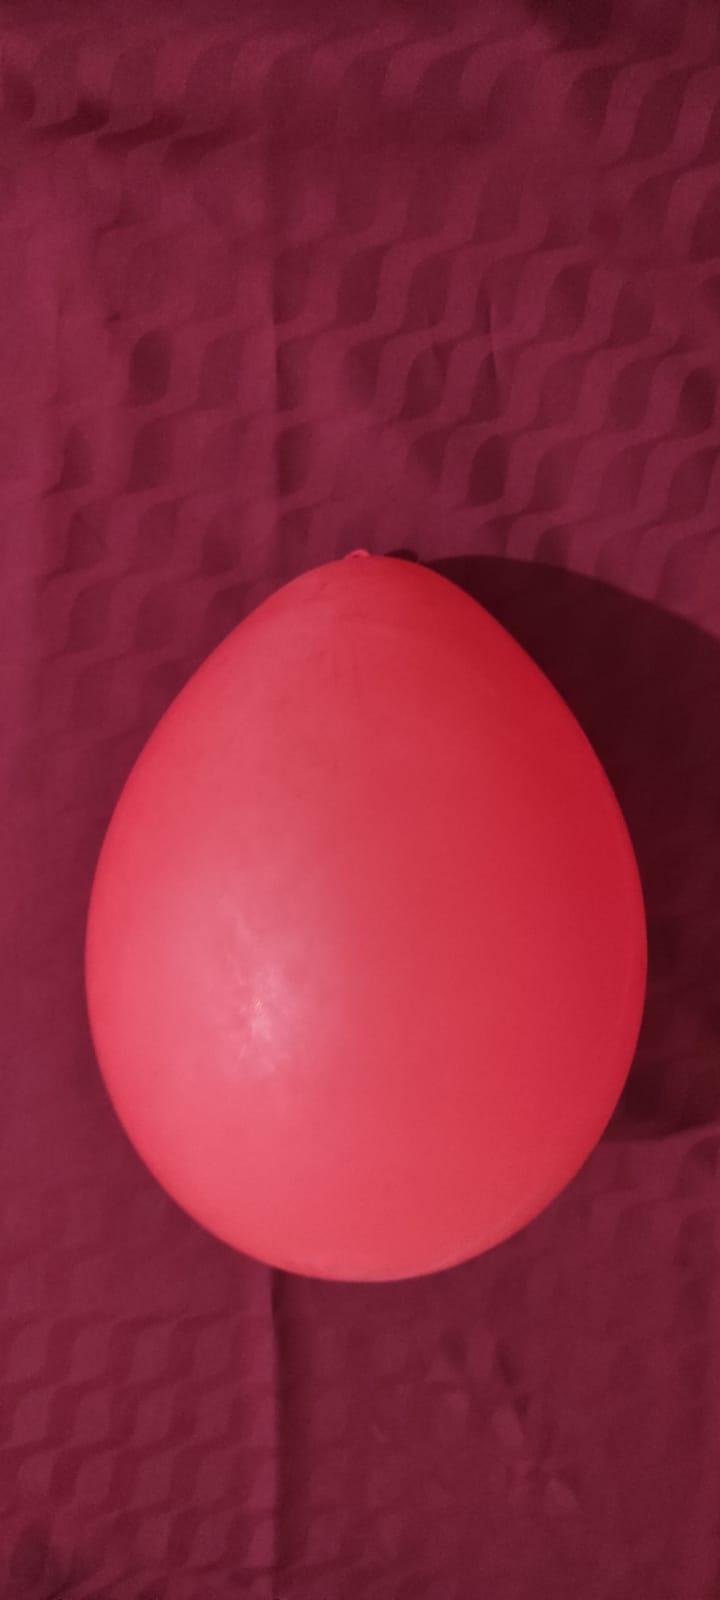red: (84, 534, 654, 1292)
